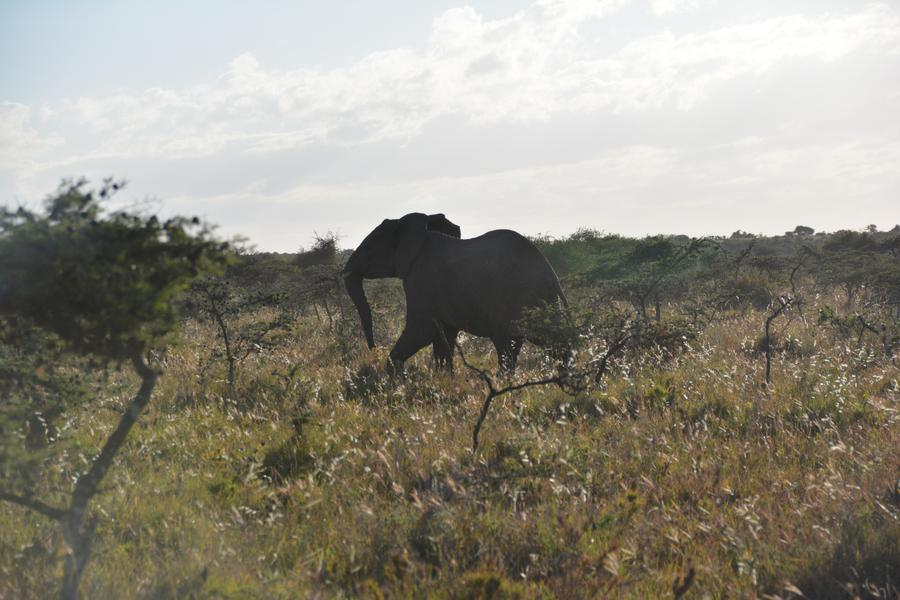elephant: (346, 215, 568, 358)
